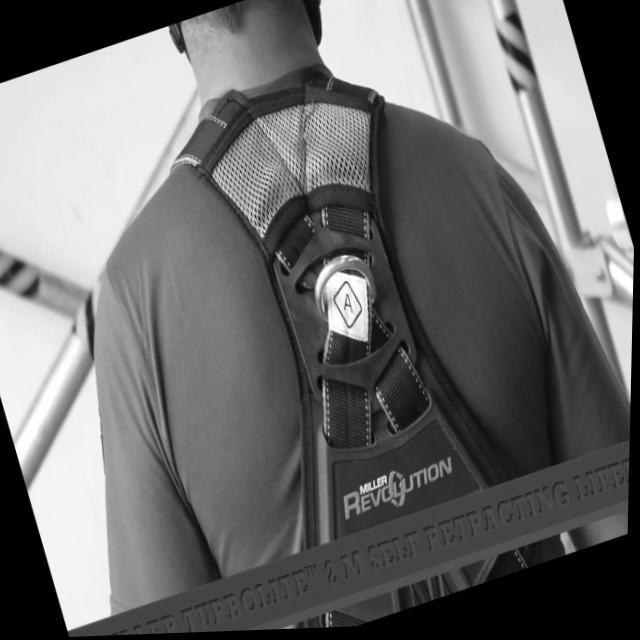belt: (139, 29, 588, 636), (25, 126, 27, 128)
